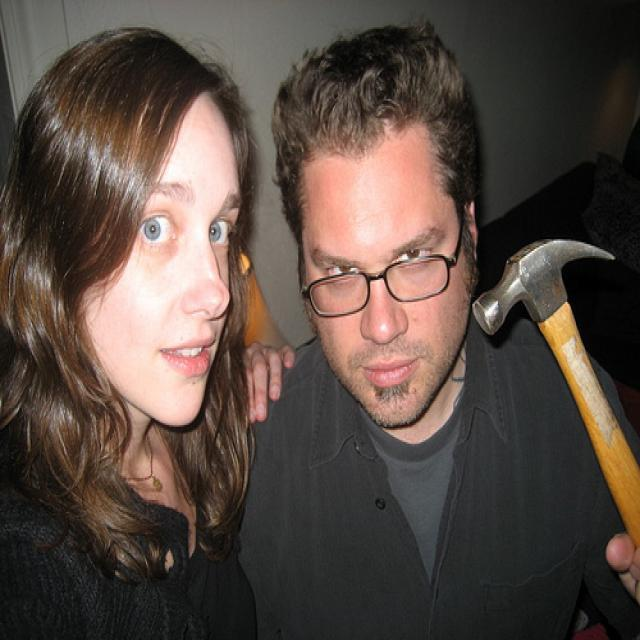hammer: (465, 223, 640, 553)
